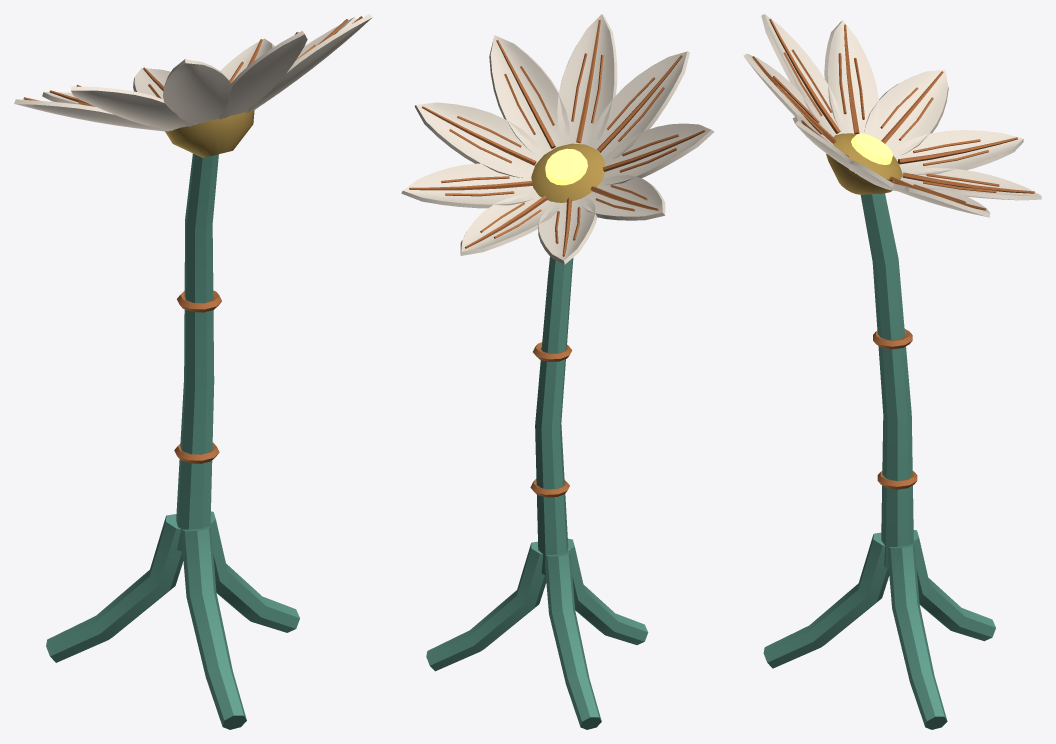
The model's file is deco_solar_petal_open.fbx.
3 renders of one model, left to right at view 1: azimuth 30°, elevation 25°; view 2: azimuth 150°, elevation 25°; view 3: azimuth 270°, elevation 25°, orthographic. The views are drawn at different scales.
Parts seen in each view (by area): view 1: SolarPetal_Open_Roots, SolarPetal_Open_Stem, SolarPetal_Open_Petal7, SolarPetal_Open_Petal8, SolarPetal_Open_Petal6, SolarPetal_Open_Hub, SolarPetal_Open_Petal9, SolarPetal_Open_Petal5, SolarPetal_Open_Petal2, SolarPetal_Open_Petal3; view 2: SolarPetal_Open_Roots, SolarPetal_Open_Stem, SolarPetal_Open_Petal9, SolarPetal_Open_Petal8, SolarPetal_Open_Petal1, SolarPetal_Open_Petal7, SolarPetal_Open_Petal2, SolarPetal_Open_Petal6, SolarPetal_Open_Hub, SolarPetal_Open_Petal3, SolarPetal_Open_Petal5, SolarPetal_Open_Petal4; view 3: SolarPetal_Open_Roots, SolarPetal_Open_Stem, SolarPetal_Open_Petal5, SolarPetal_Open_Petal6, SolarPetal_Open_Petal4, SolarPetal_Open_Petal7, SolarPetal_Open_Hub, SolarPetal_Open_Petal3, SolarPetal_Open_Petal8, SolarPetal_Open_Petal2, SolarPetal_Open_Petal9, SolarPetal_Open_Petal1.
Part boxes in pixels (bbox=[...]): SolarPetal_Open_Roots: bbox=[46, 511, 299, 729]; SolarPetal_Open_Stem: bbox=[174, 153, 221, 551]; SolarPetal_Open_Petal7: bbox=[163, 59, 231, 126]; SolarPetal_Open_Petal8: bbox=[219, 30, 307, 119]; SolarPetal_Open_Petal6: bbox=[71, 85, 195, 131]; SolarPetal_Open_Hub: bbox=[165, 110, 254, 157]; SolarPetal_Open_Petal9: bbox=[245, 14, 372, 113]; SolarPetal_Open_Petal5: bbox=[14, 97, 172, 131]; SolarPetal_Open_Petal2: bbox=[220, 38, 274, 83]; SolarPetal_Open_Petal3: bbox=[133, 67, 170, 99]; SolarPetal_Open_Roots: bbox=[426, 538, 648, 729]; SolarPetal_Open_Stem: bbox=[530, 256, 573, 575]; SolarPetal_Open_Petal9: bbox=[489, 35, 569, 156]; SolarPetal_Open_Petal8: bbox=[557, 14, 617, 145]; SolarPetal_Open_Petal1: bbox=[414, 102, 541, 177]; SolarPetal_Open_Petal7: bbox=[590, 51, 689, 159]; SolarPetal_Open_Petal2: bbox=[401, 163, 537, 208]; SolarPetal_Open_Petal6: bbox=[602, 123, 714, 184]; SolarPetal_Open_Hub: bbox=[531, 143, 604, 202]; SolarPetal_Open_Petal3: bbox=[460, 193, 559, 255]; SolarPetal_Open_Petal5: bbox=[581, 175, 665, 220]; SolarPetal_Open_Petal4: bbox=[538, 197, 597, 264]; SolarPetal_Open_Roots: bbox=[763, 530, 995, 729]; SolarPetal_Open_Stem: bbox=[860, 193, 917, 568]; SolarPetal_Open_Petal5: bbox=[864, 69, 948, 155]; SolarPetal_Open_Petal6: bbox=[824, 20, 878, 136]; SolarPetal_Open_Petal4: bbox=[892, 130, 1023, 174]; SolarPetal_Open_Petal7: bbox=[761, 14, 844, 136]; SolarPetal_Open_Hub: bbox=[826, 133, 902, 194]; SolarPetal_Open_Petal3: bbox=[900, 168, 1041, 200]; SolarPetal_Open_Petal8: bbox=[743, 53, 836, 145]; SolarPetal_Open_Petal2: bbox=[889, 176, 990, 217]; SolarPetal_Open_Petal9: bbox=[792, 116, 855, 173]; SolarPetal_Open_Petal1: bbox=[849, 160, 908, 191].
Bounding box in the file's own units: 140 × 296 × 125.
